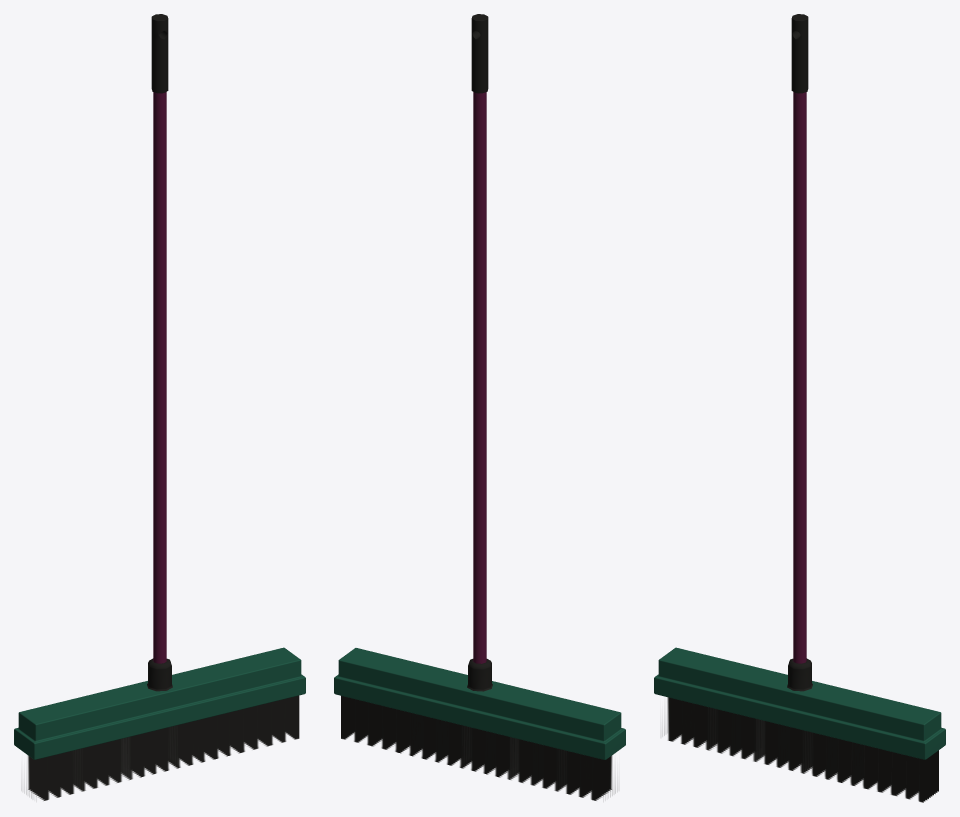
The model's file is broom.glb.
3 renders of one model, left to right at view 1: azimuth 30°, elevation 25°; view 2: azimuth 150°, elevation 25°; view 3: azimuth 330°, elevation 25°, orthographic.
Visible parts, largest first — view 1: Base, Plane, Pipe, Hole; view 2: Base, Plane, Pipe, Hole; view 3: Base, Plane, Pipe, Hole.
Part boxes in pixels (x1,y1,x2,y2): Base: (14,647,305,759); Plane: (26,695,299,800); Pipe: (147,92,172,691); Hole: (151,14,168,93); Base: (334,648,625,759); Plane: (341,696,615,800); Pipe: (467,92,492,691); Hole: (471,14,488,93); Base: (654,647,945,759); Plane: (664,697,938,802); Pipe: (787,92,812,691); Hole: (791,14,808,93).
Size of the model in its own units: 30.61 by 80.48 by 4.02.
Materials: 1 (1 with a texture image).
